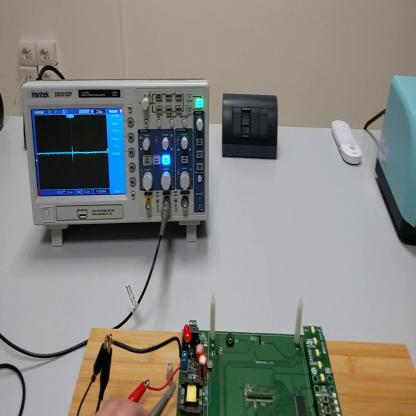hand: (97, 392, 150, 414)
low voltage board: (113, 295, 344, 416)
oscilloscope: (23, 83, 211, 247)
oscilloscope probe tip: (153, 383, 179, 415)
socket: (2, 95, 6, 133), (24, 117, 27, 150)
welder station: (373, 78, 416, 246)
working area: (70, 328, 415, 413)
